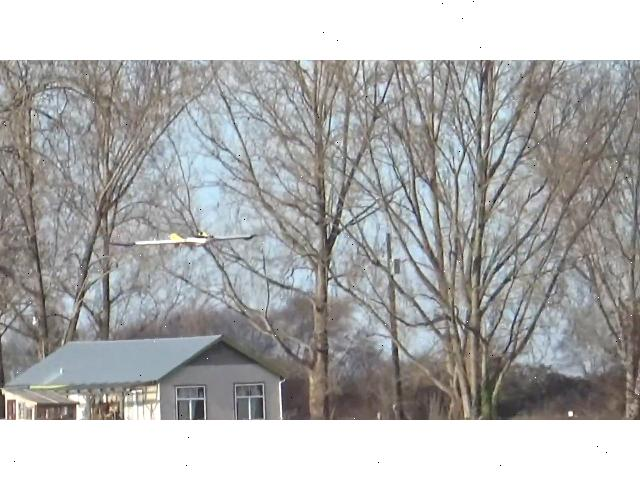Anti-Drone: (109, 233, 255, 247)
